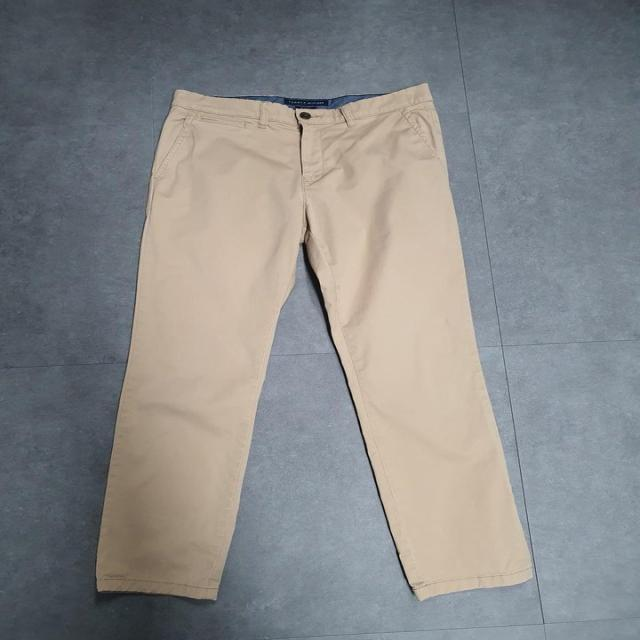long-pants: (95, 81, 536, 605)
